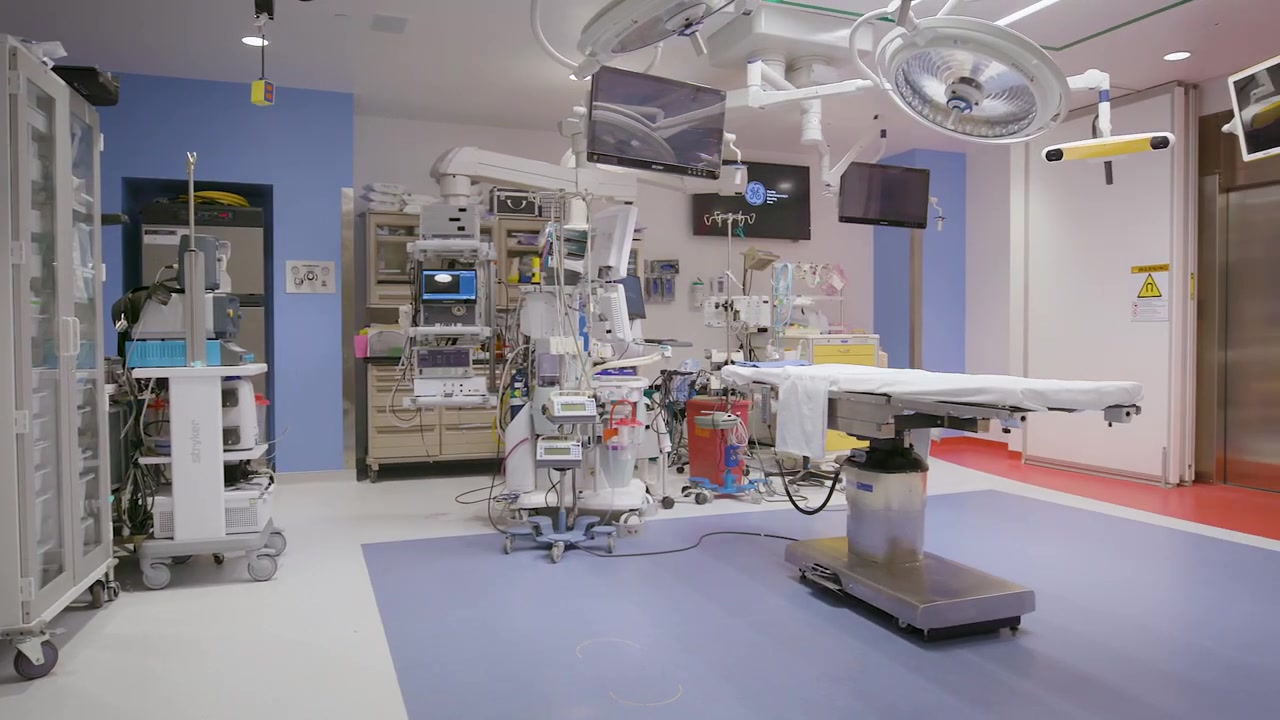bedside_monitor: (586, 67, 724, 180), (693, 161, 809, 239), (839, 163, 930, 228), (1226, 55, 1280, 164), (421, 268, 479, 306)
cabinet: (1, 32, 122, 652), (370, 214, 474, 309)
computer: (616, 274, 647, 320)
dispenser: (646, 260, 676, 303), (712, 275, 727, 296)
electrosurgical_unit: (123, 333, 264, 372)
handle: (60, 318, 84, 362), (837, 349, 852, 354)
infusion_pump: (703, 296, 770, 325)
iv_pole: (505, 188, 617, 565), (704, 210, 756, 365), (182, 150, 200, 337)
medical_drawer: (366, 354, 505, 459), (779, 327, 886, 458)
operating_bed: (719, 364, 1144, 636)
surgical_light: (874, 1, 1072, 144), (572, 1, 748, 66)
syringe_pump: (547, 395, 597, 422), (536, 438, 582, 467)
waste_bin: (686, 396, 752, 487)
